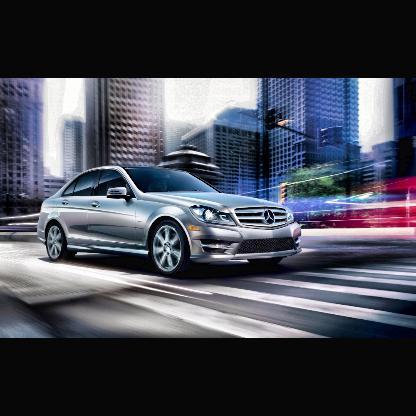Mercedes-Benz C-Class Sedan 2012: (38, 166, 304, 279)
